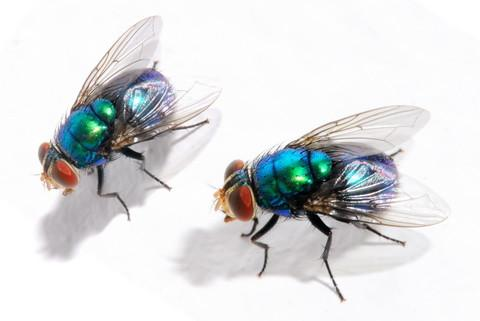green bottles fly: (215, 86, 452, 301), (6, 6, 217, 223)
